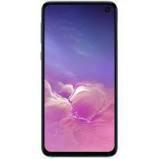Smartphone: (43, 2, 116, 156)
